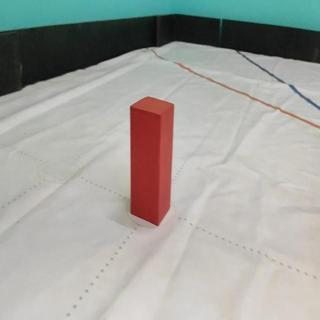redbox: (129, 95, 175, 226)
